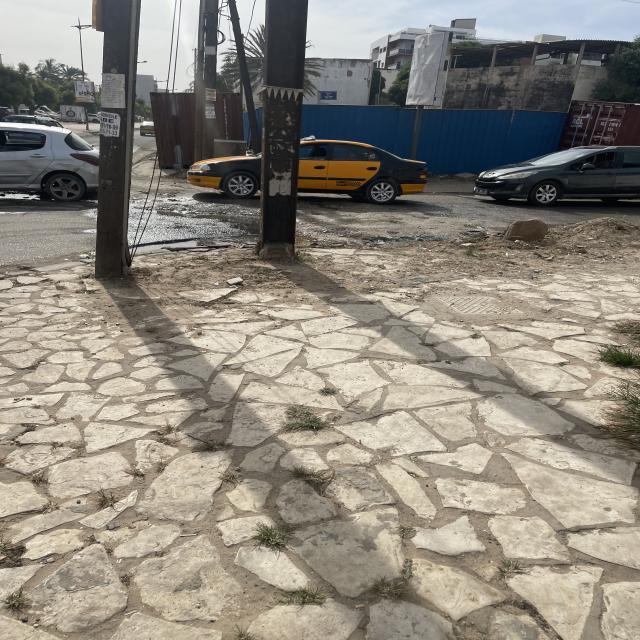particulier: (3, 123, 130, 207), (473, 145, 640, 207), (2, 115, 81, 134)
taxi: (185, 137, 432, 205), (140, 120, 157, 139)
